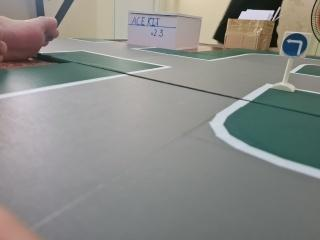left: (276, 28, 314, 61)
